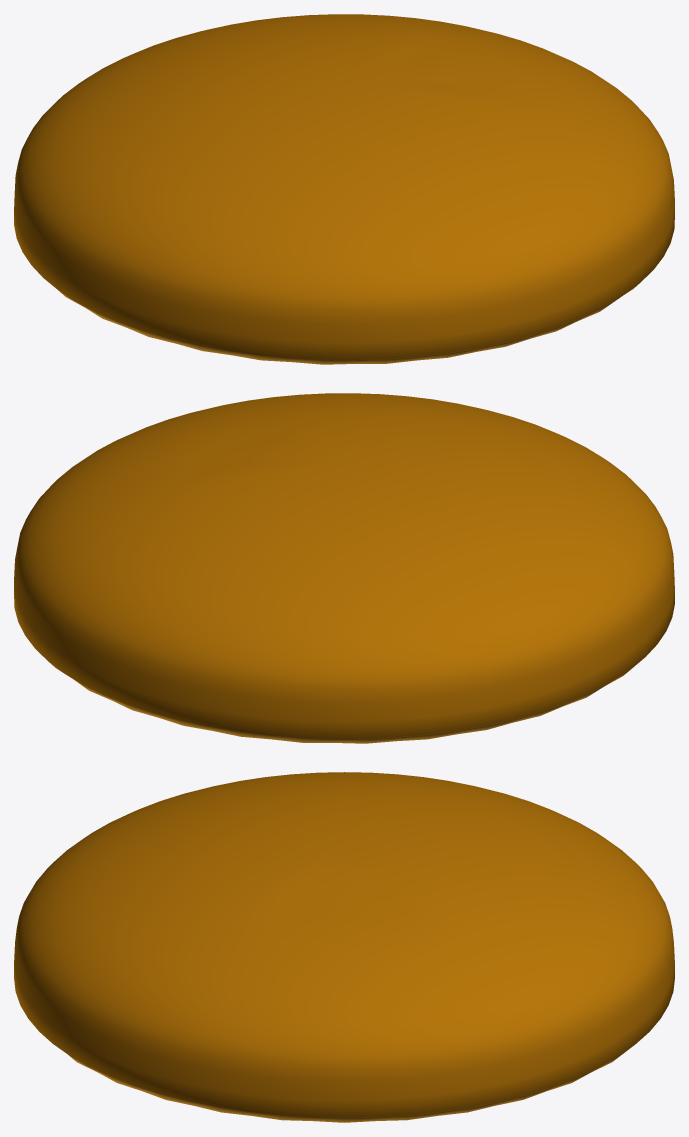
The model's file is Bread_Top.fbx.
3 renders of one model, top to bottom at view 1: azimuth 30°, elevation 25°; view 2: azimuth 150°, elevation 25°; view 3: azimuth 270°, elevation 25°, orthographic.
Visible parts, largest first — view 1: Burger_Top; view 2: Burger_Top; view 3: Burger_Top.
Boxes of the visible parts, bbox=[...] form: Burger_Top: bbox=[14, 14, 674, 364]; Burger_Top: bbox=[14, 393, 674, 743]; Burger_Top: bbox=[14, 772, 674, 1122].
Bounding box in the file's own units: 0.2381 × 0.059 × 0.2381.
